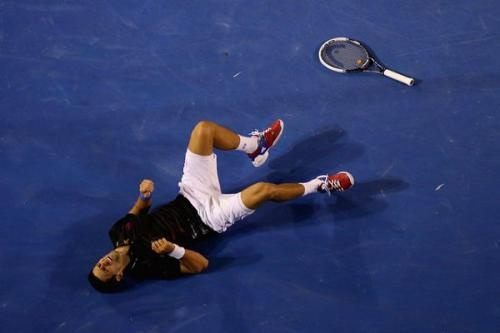falling: (78, 109, 362, 291)
